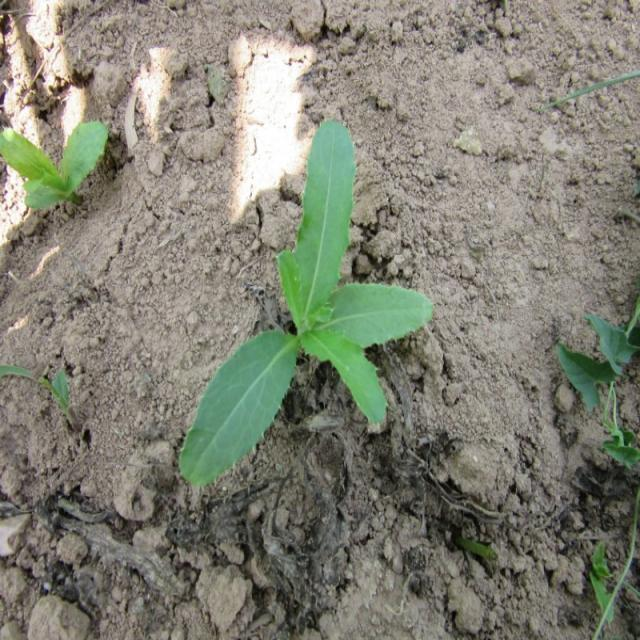field_thistle: (176, 107, 426, 506)
